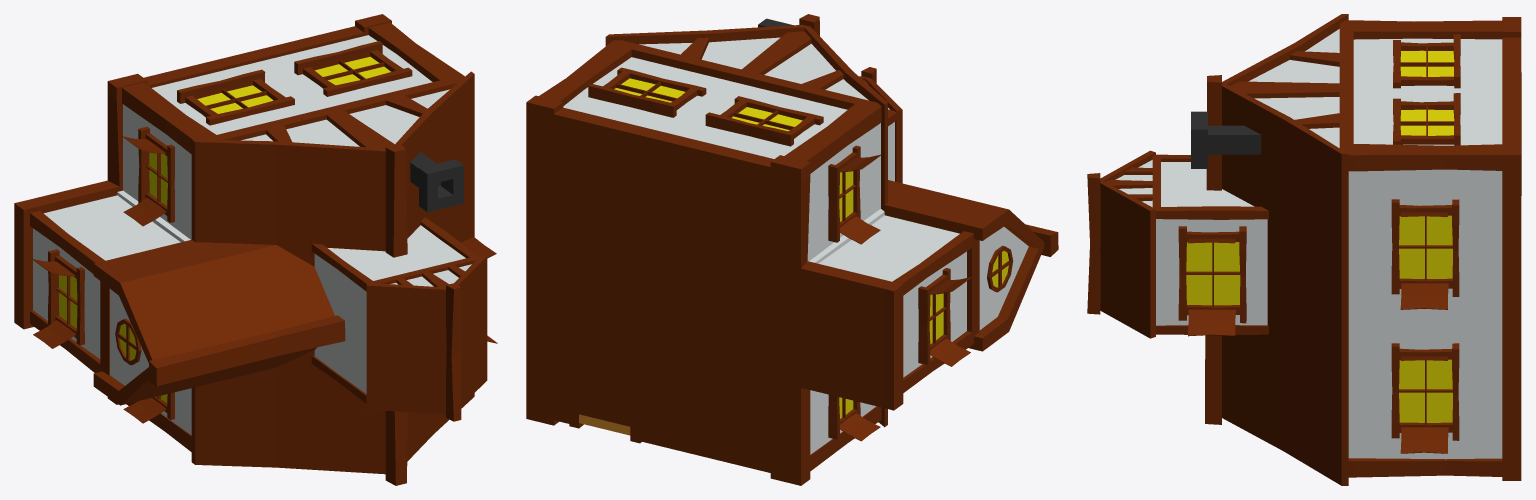
File: House07.fbx
3 renders of one model, left to right at view 1: azimuth 30°, elevation 25°; view 2: azimuth 150°, elevation 25°; view 3: azimuth 270°, elevation 25°, orthographic. The views are drawn at different scales.
Visible parts, largest first — view 1: House_07; view 2: House_07; view 3: House_07.
Boxes of the visible parts, x1,y1,x2,y2 form: House_07: (14, 14, 497, 485); House_07: (526, 14, 1058, 485); House_07: (1087, 14, 1521, 485).
Size of the model in its own units: 9.53 by 7.23 by 8.31.
